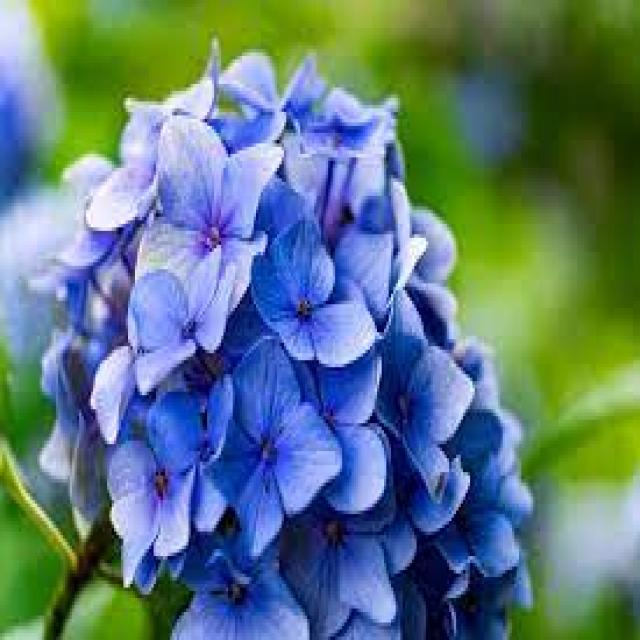Flower: (47, 31, 526, 640)
